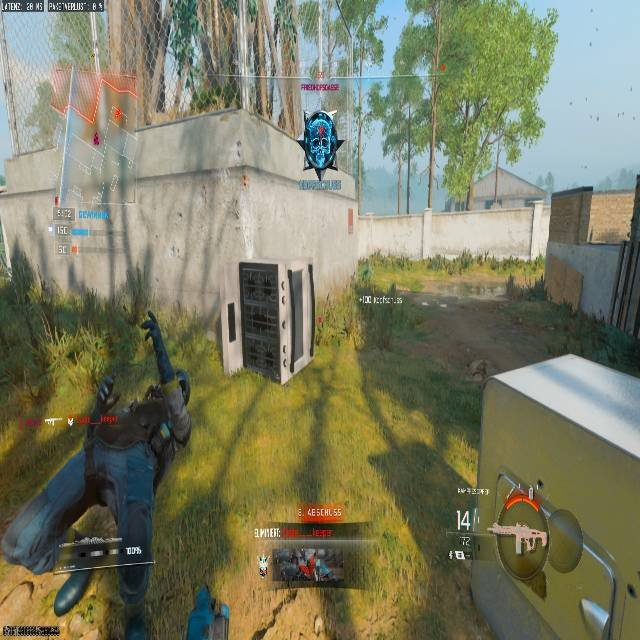player: (302, 110, 338, 178)
